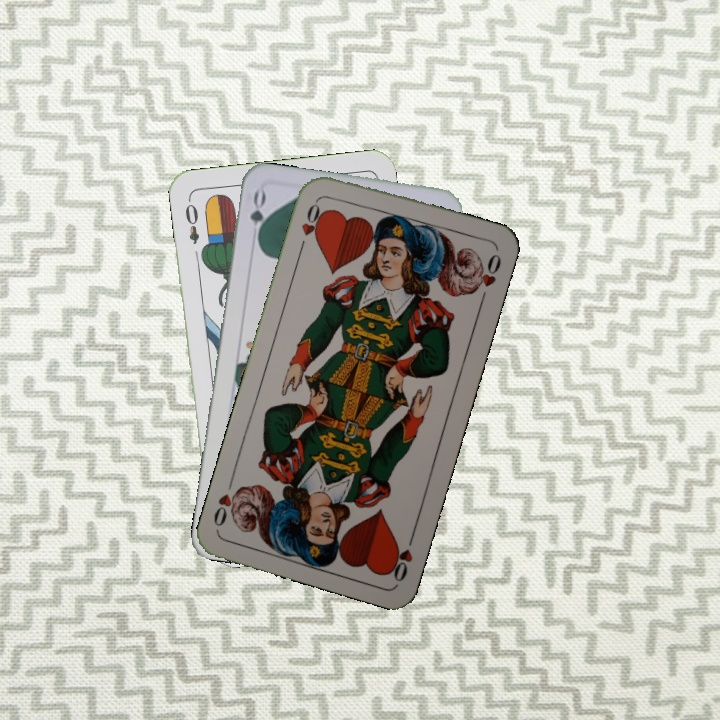EO: (181, 195, 202, 247)
GO: (246, 187, 269, 247)
HO: (295, 195, 328, 253), (385, 527, 418, 585)
